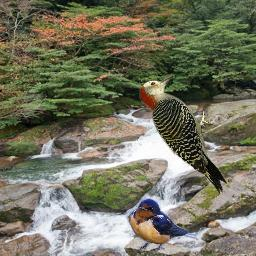Swallow: (126, 198, 197, 253)
Woodpecker: (137, 75, 229, 194)
